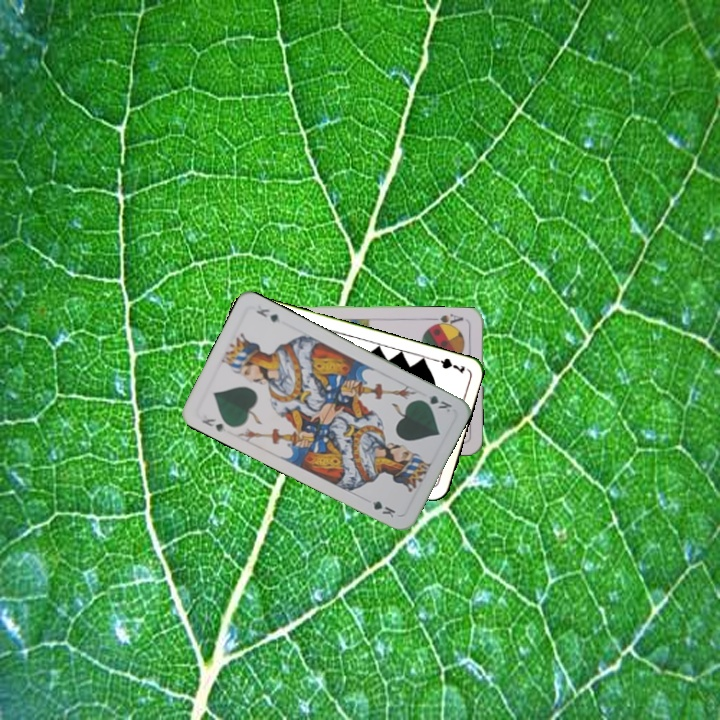G7: (428, 354, 468, 376)
GK: (415, 391, 455, 415), (197, 414, 229, 435)
SA: (428, 310, 466, 330)
